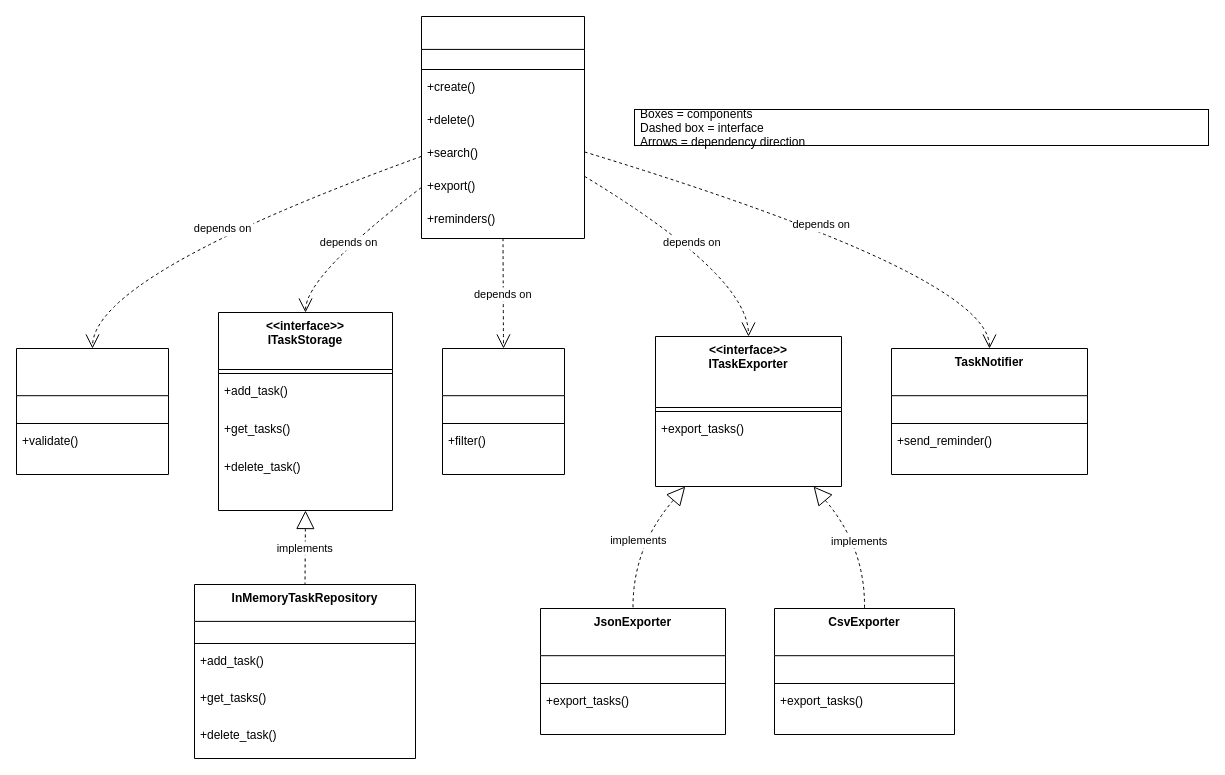
Image size: 1225x775. Some labels were removed from this diagram. The box of each missing label's shape, as (x1, y1, x2, y2) in pixels:
TaskManager: (420, 16, 584, 238)
TaskSearch: (442, 348, 564, 474)
TaskValidator: (16, 348, 168, 474)
